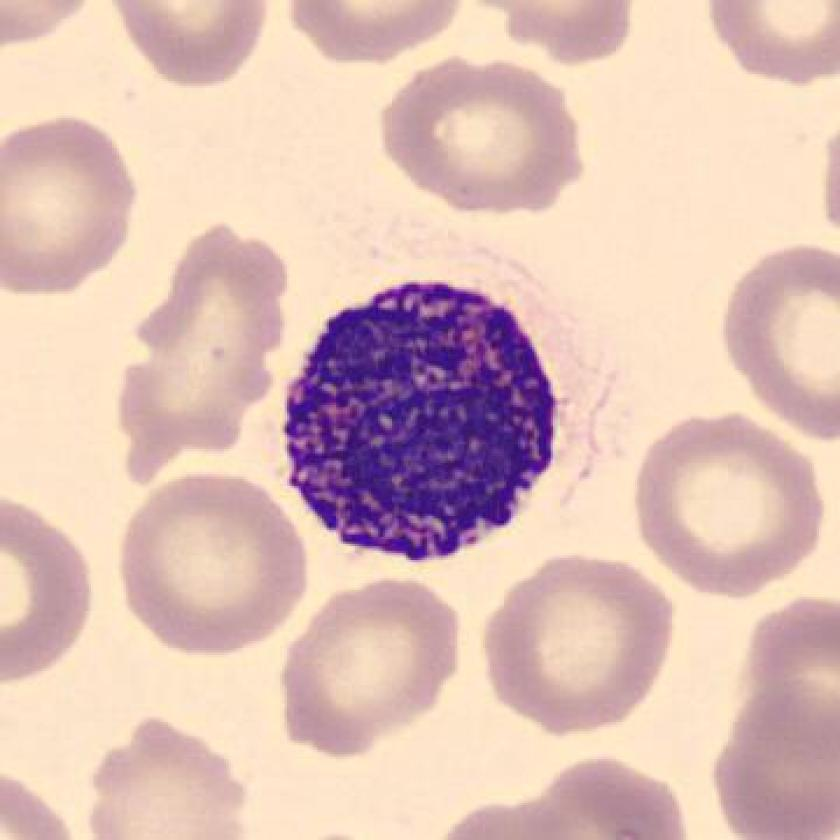basophil: (272, 274, 568, 570)
